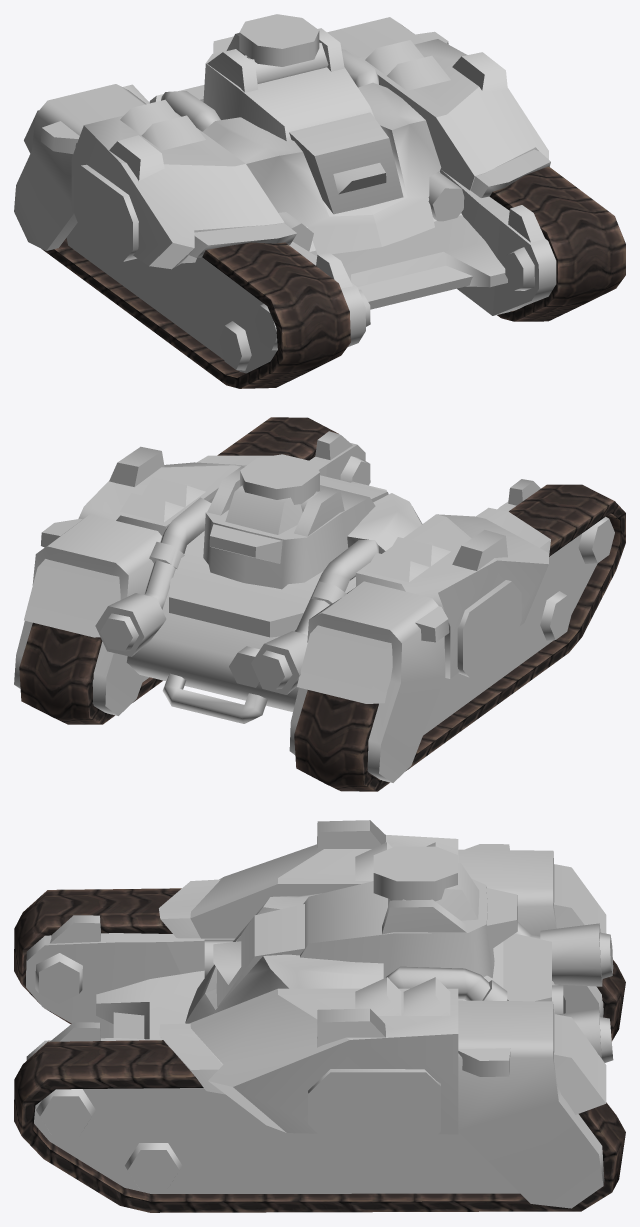
The model's file is Chassis_Carrier_Lvl2 - копия.fbx.
The picture shows the model from 3 angles, top to bottom: view 1: azimuth 30°, elevation 25°; view 2: azimuth 150°, elevation 25°; view 3: azimuth 270°, elevation 25°; orthographic projection. The views are drawn at different scales.
Parts seen in each view (by area): view 1: Body_Geom, Tracks_R_Geom, Tracks_L_Geom; view 2: Body_Geom, Tracks_R_Geom, Tracks_L_Geom; view 3: Body_Geom, Tracks_L_Geom, Tracks_R_Geom.
Boxes of the visible parts, <box> form: Body_Geom: <box>14,14,556,373</box>; Tracks_R_Geom: <box>42,238,350,388</box>; Tracks_L_Geom: <box>489,166,625,321</box>; Body_Geom: <box>14,431,614,782</box>; Tracks_R_Geom: <box>294,484,625,791</box>; Tracks_L_Geom: <box>19,417,338,724</box>; Body_Geom: <box>26,820,613,1208</box>; Tracks_L_Geom: <box>14,1040,625,1212</box>; Tracks_R_Geom: <box>14,888,625,1041</box>.
Bounding box in the file's own units: 412 × 232 × 489.
